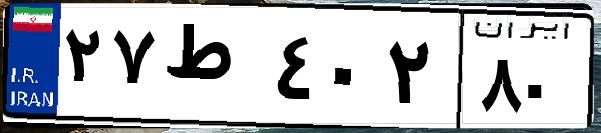0: (330, 28, 385, 110), (525, 38, 570, 115)
2: (385, 28, 445, 110), (57, 26, 110, 100)
4: (270, 28, 330, 110)
7: (110, 28, 158, 98)
8: (475, 38, 525, 113)
ط: (158, 20, 270, 120)
